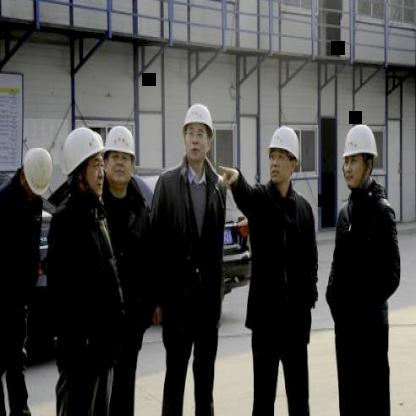helmet: (339, 118, 381, 194), (64, 126, 107, 200), (180, 96, 216, 168), (101, 121, 137, 190), (266, 121, 302, 189), (24, 145, 52, 203)
